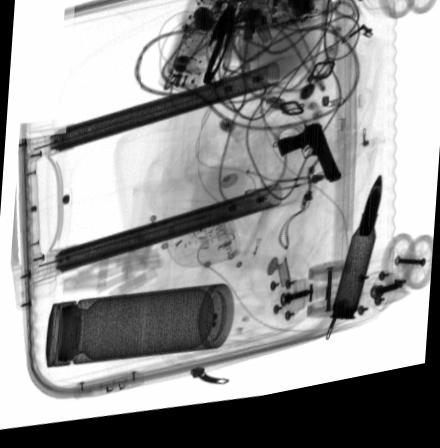Bullet: (329, 189, 382, 332)
Gun: (274, 134, 342, 195)
